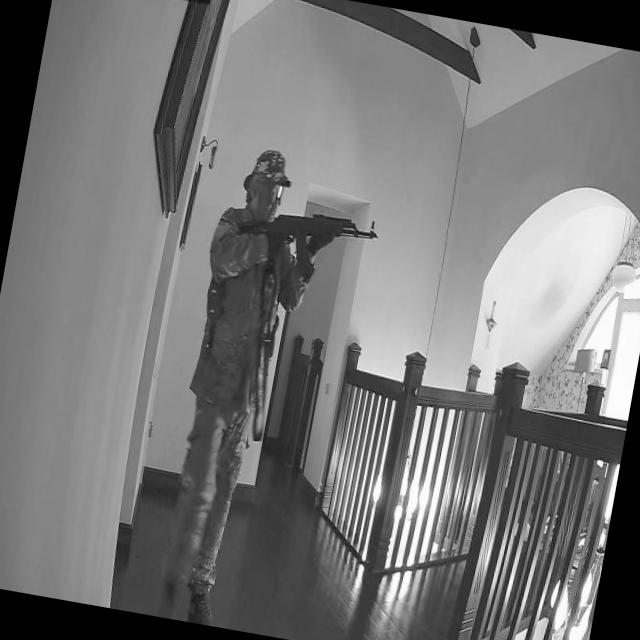gun: (233, 192, 383, 279)
person with a gun: (146, 137, 390, 640)
